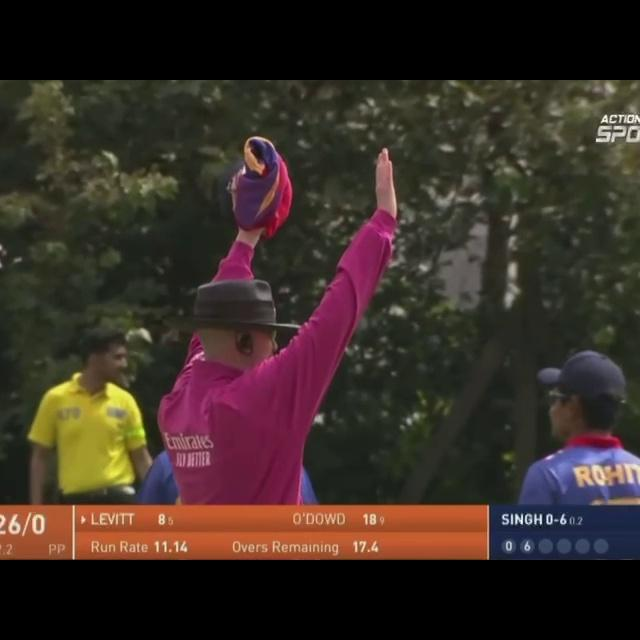umpire: (110, 93, 429, 457)
